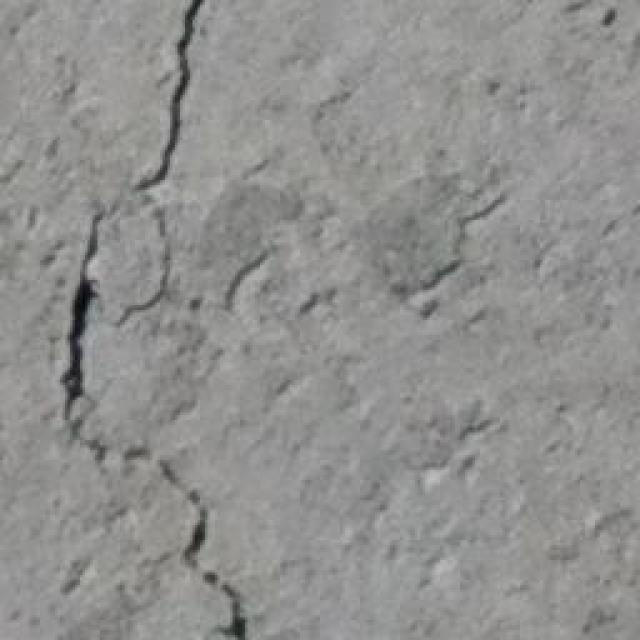Annular: (67, 178, 193, 338)
Longitudinal: (41, 0, 265, 640)
